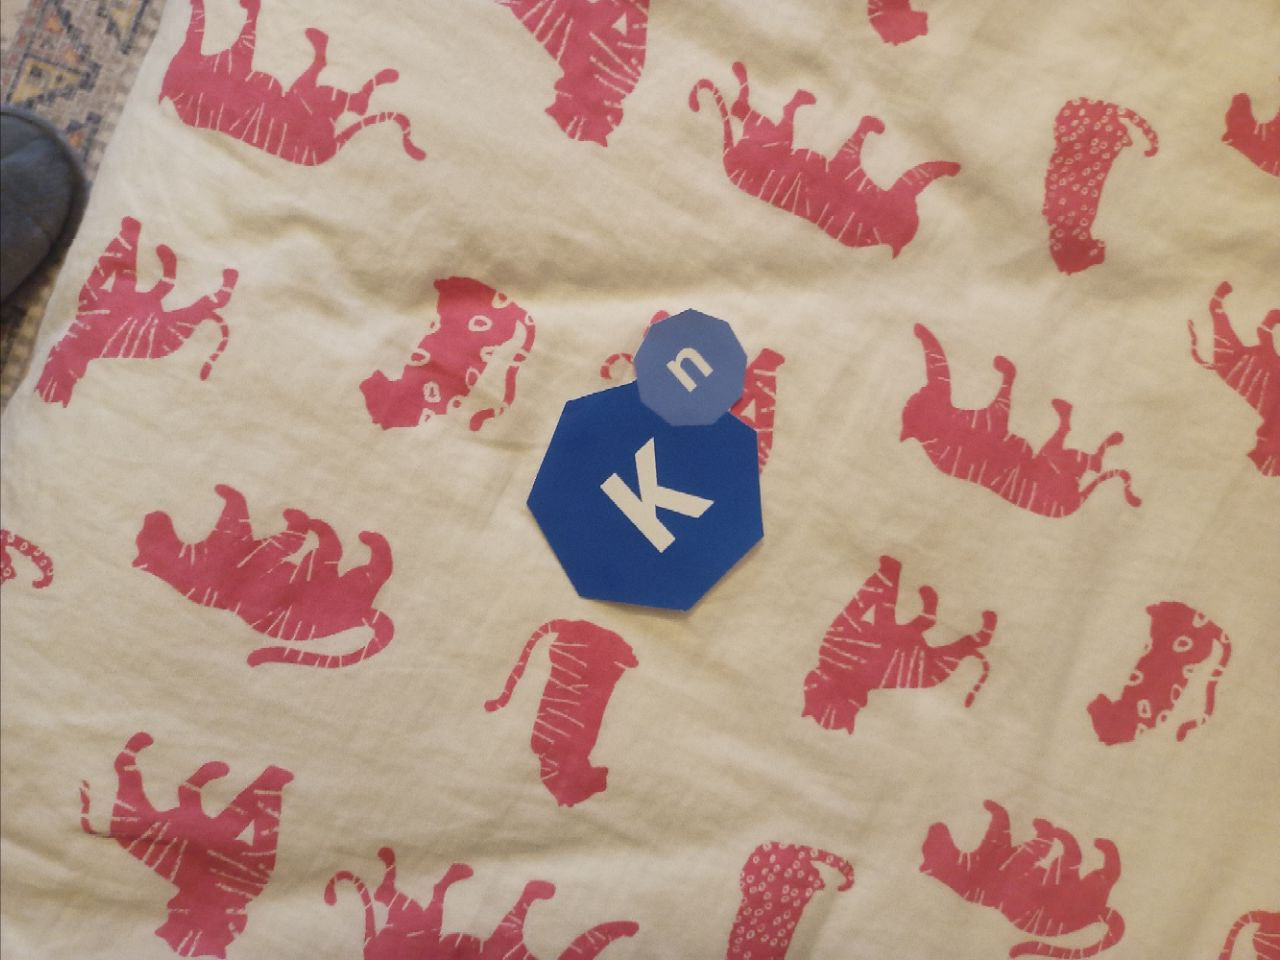knative: (526, 308, 763, 612)
